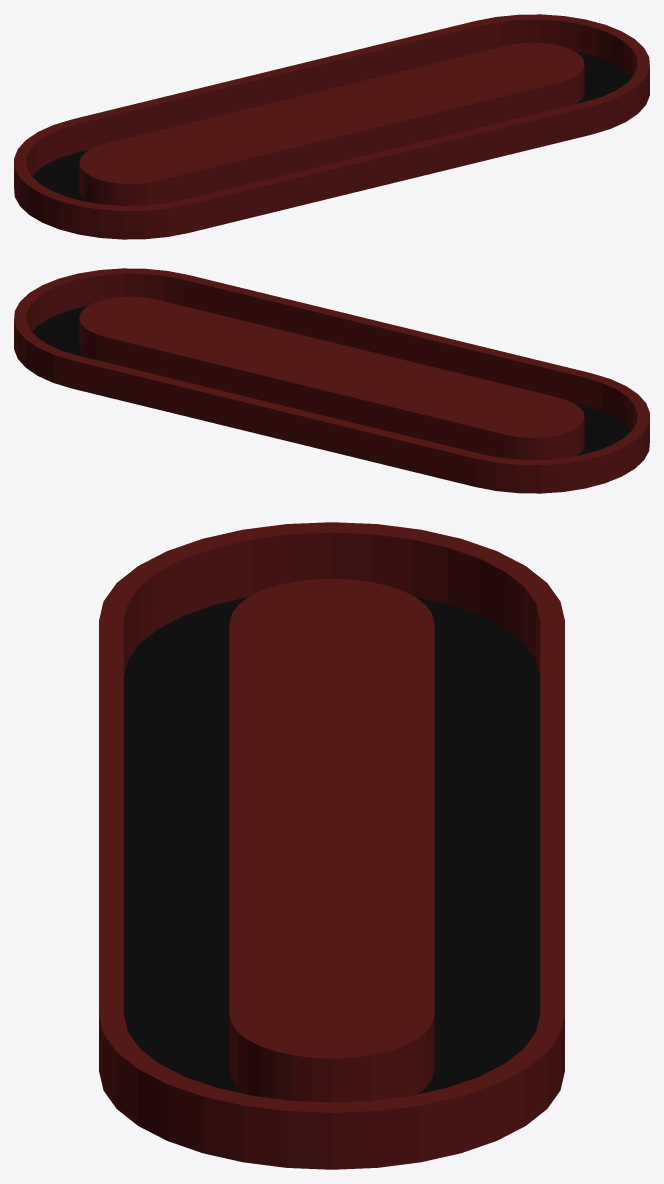
File: track3.obj
The picture shows the model from 3 angles, top to bottom: view 1: azimuth 30°, elevation 25°; view 2: azimuth 150°, elevation 25°; view 3: azimuth 270°, elevation 25°; orthographic projection. The views are drawn at different scales.
Visible parts, largest first — view 1: Cube; view 2: Cube; view 3: Cube.
Boxes of the visible parts, <box> form: Cube: <box>14,14,649,239</box>; Cube: <box>14,268,649,493</box>; Cube: <box>99,522,564,1169</box>.
Size of the model in its own units: 90 by 4.04 by 30.
